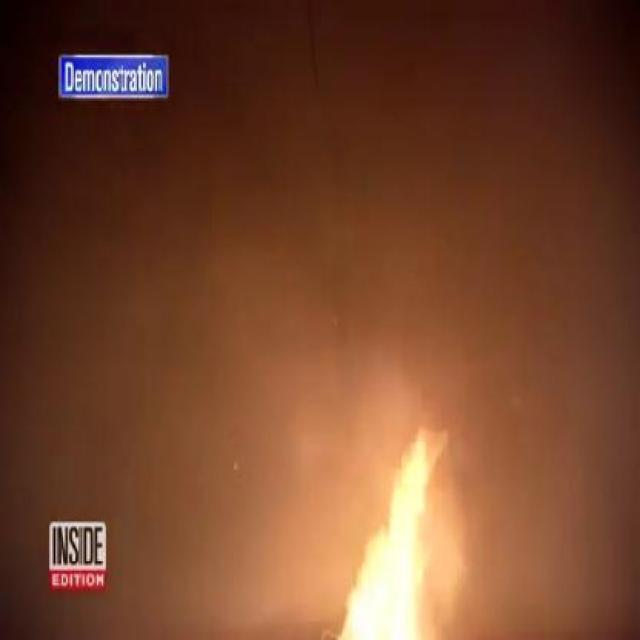fire: (323, 369, 480, 640)
